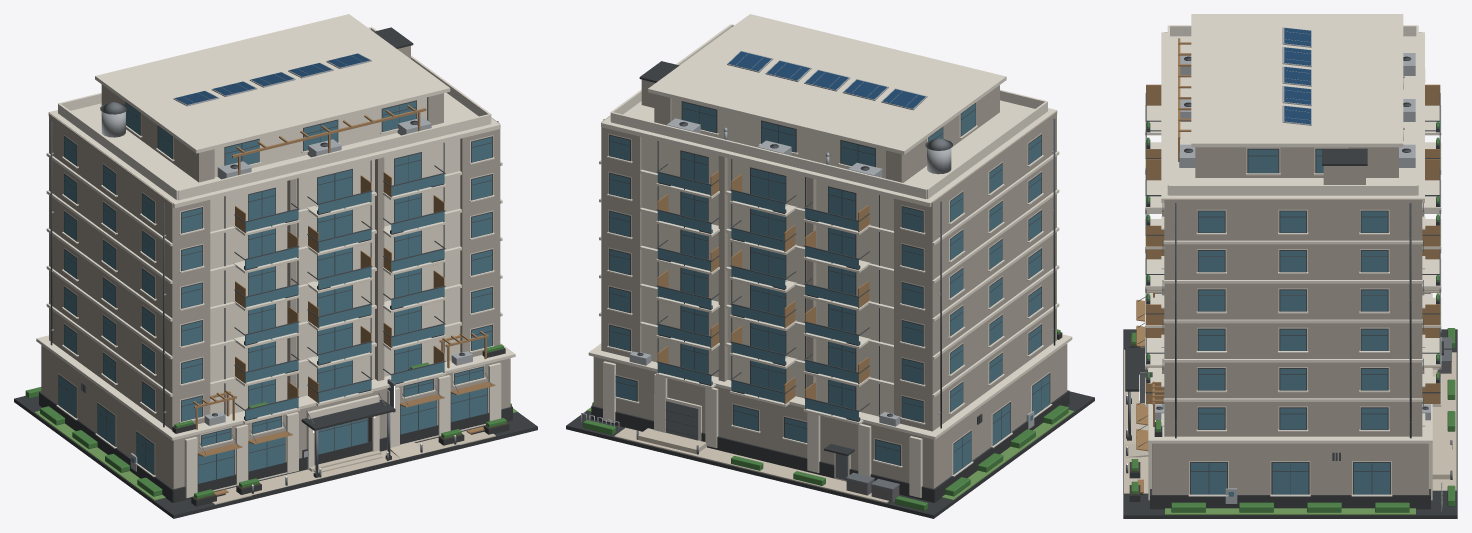
Rendered from hero_building.glb.
The picture shows the model from 3 angles, left to right: view 1: azimuth 30°, elevation 25°; view 2: azimuth 150°, elevation 25°; view 3: azimuth 270°, elevation 25°; orthographic projection. The views are drawn at different scales.
Visible parts, largest first — view 1: Merged_HeroTrim, Merged_HeroStone, Merged_VillaGlass, Merged_HeroPlaster, Merged_WindowFrame, Merged_VillaGranite, Merged_HeroWood, Merged_VillaPavement, Merged_PropsMetal, Merged_VillaHedge, Merged_SolarCell, Merged_HeroMetal (+1 smaller); view 2: Merged_HeroTrim, Merged_HeroStone, Merged_VillaGlass, Merged_HeroPlaster, Merged_WindowFrame, Merged_VillaGranite, Merged_HeroWood, Merged_PropsMetal, Merged_VillaPavement, Merged_SolarCell, Merged_VillaHedge, Merged_HeroMetal (+2 smaller); view 3: Merged_HeroStone, Merged_HeroTrim, Merged_VillaGlass, Merged_VillaGranite, Merged_WindowFrame, Merged_HeroWood, Merged_VillaPavement, Merged_PropsMetal, Merged_VillaHedge, Merged_SolarCell, Merged_VillaLawn, Merged_HeroMetal.
Part boxes in pixels (<box>): Merged_HeroTrim: <box>36,14,515,498</box>; Merged_HeroStone: <box>41,45,510,489</box>; Merged_VillaGlass: <box>58,101,491,483</box>; Merged_HeroPlaster: <box>210,97,460,415</box>; Merged_WindowFrame: <box>50,100,498,483</box>; Merged_VillaGranite: <box>14,27,537,518</box>; Merged_HeroWood: <box>193,104,495,495</box>; Merged_VillaPavement: <box>212,430,495,504</box>; Merged_PropsMetal: <box>51,53,472,471</box>; Merged_VillaHedge: <box>25,209,511,498</box>; Merged_SolarCell: <box>175,53,369,104</box>; Merged_HeroMetal: <box>100,102,491,493</box>; Merged_HeroTrim: <box>588,14,1072,497</box>; Merged_HeroStone: <box>593,79,1067,488</box>; Merged_VillaGlass: <box>609,102,1049,474</box>; Merged_HeroPlaster: <box>641,98,893,416</box>; Merged_WindowFrame: <box>603,101,1055,474</box>; Merged_VillaGranite: <box>566,61,1094,518</box>; Merged_HeroWood: <box>657,171,869,408</box>; Merged_PropsMetal: <box>581,51,1054,430</box>; Merged_VillaPavement: <box>614,427,888,503</box>; Merged_SolarCell: <box>728,51,925,108</box>; Merged_VillaHedge: <box>583,329,1068,511</box>; Merged_HeroMetal: <box>636,138,952,490</box>; Merged_HeroStone: <box>1152,32,1428,494</box>; Merged_HeroTrim: <box>1145,14,1441,500</box>; Merged_VillaGlass: <box>1146,121,1440,496</box>; Merged_VillaGranite: <box>1123,123,1457,518</box>; Merged_WindowFrame: <box>1145,56,1440,494</box>; Merged_HeroWood: <box>1136,38,1440,493</box>; Merged_VillaPavement: <box>1124,349,1456,493</box>; Merged_PropsMetal: <box>1155,27,1442,511</box>; Merged_VillaHedge: <box>1131,121,1455,512</box>; Merged_SolarCell: <box>1284,28,1310,124</box>; Merged_VillaLawn: <box>1165,508,1415,514</box>; Merged_HeroMetal: <box>1126,296,1452,479</box>.
Size of the model in its own units: 32.4 by 28.56 by 24.6.
